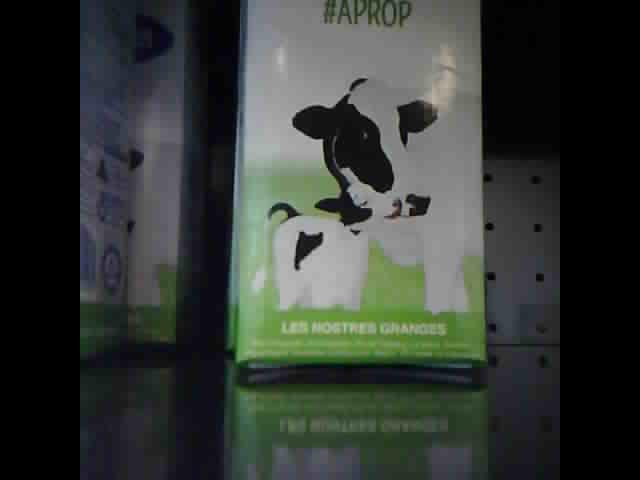leche: (226, 2, 483, 367), (139, 5, 201, 345), (80, 6, 137, 359)
